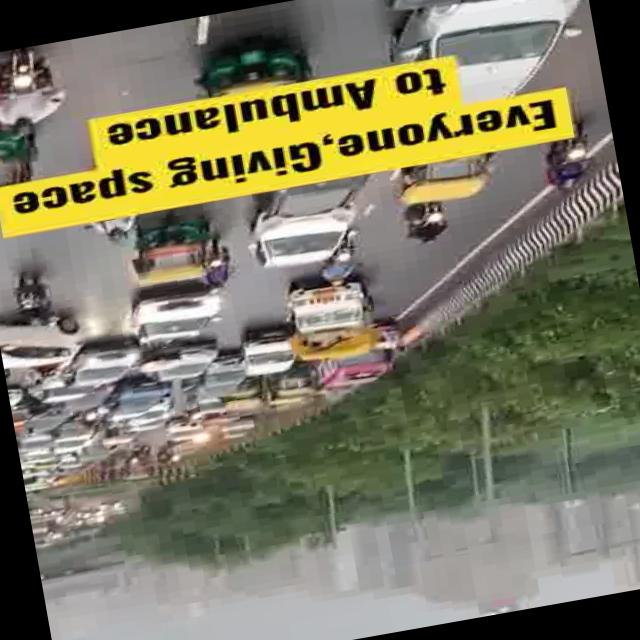ambulance: (316, 347, 407, 400)
